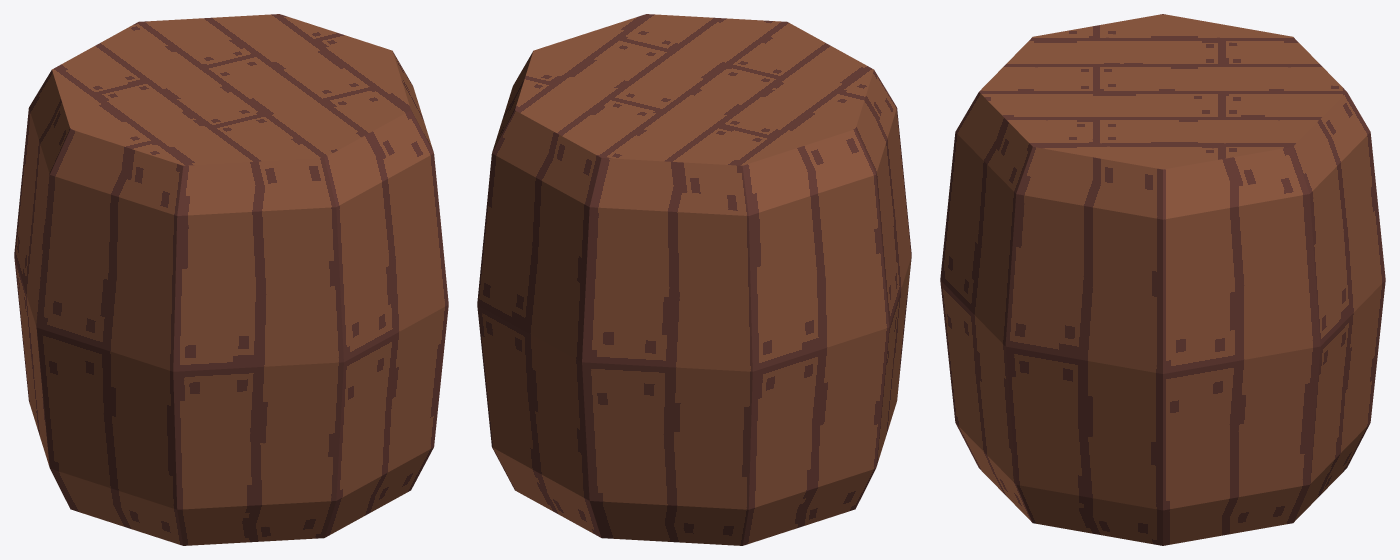
The model's file is crate.glb.
3 renders of one model, left to right at view 1: azimuth 30°, elevation 25°; view 2: azimuth 150°, elevation 25°; view 3: azimuth 270°, elevation 25°, orthographic.
Parts seen in each view (by area): view 1: Cylinder, Cylinder.001; view 2: Cylinder, Cylinder.001; view 3: Cylinder, Cylinder.001.
Boxes of the visible parts, box(x1,y1,x2,y2) form: Cylinder: box(14, 51, 448, 545); Cylinder.001: box(52, 14, 410, 165); Cylinder: box(477, 51, 911, 545); Cylinder.001: box(515, 14, 873, 165); Cylinder: box(940, 92, 1385, 545); Cylinder.001: box(979, 14, 1346, 169).
Size of the model in its own units: 2.15 by 2 by 2.15.
Materials: 1 (1 with a texture image).
